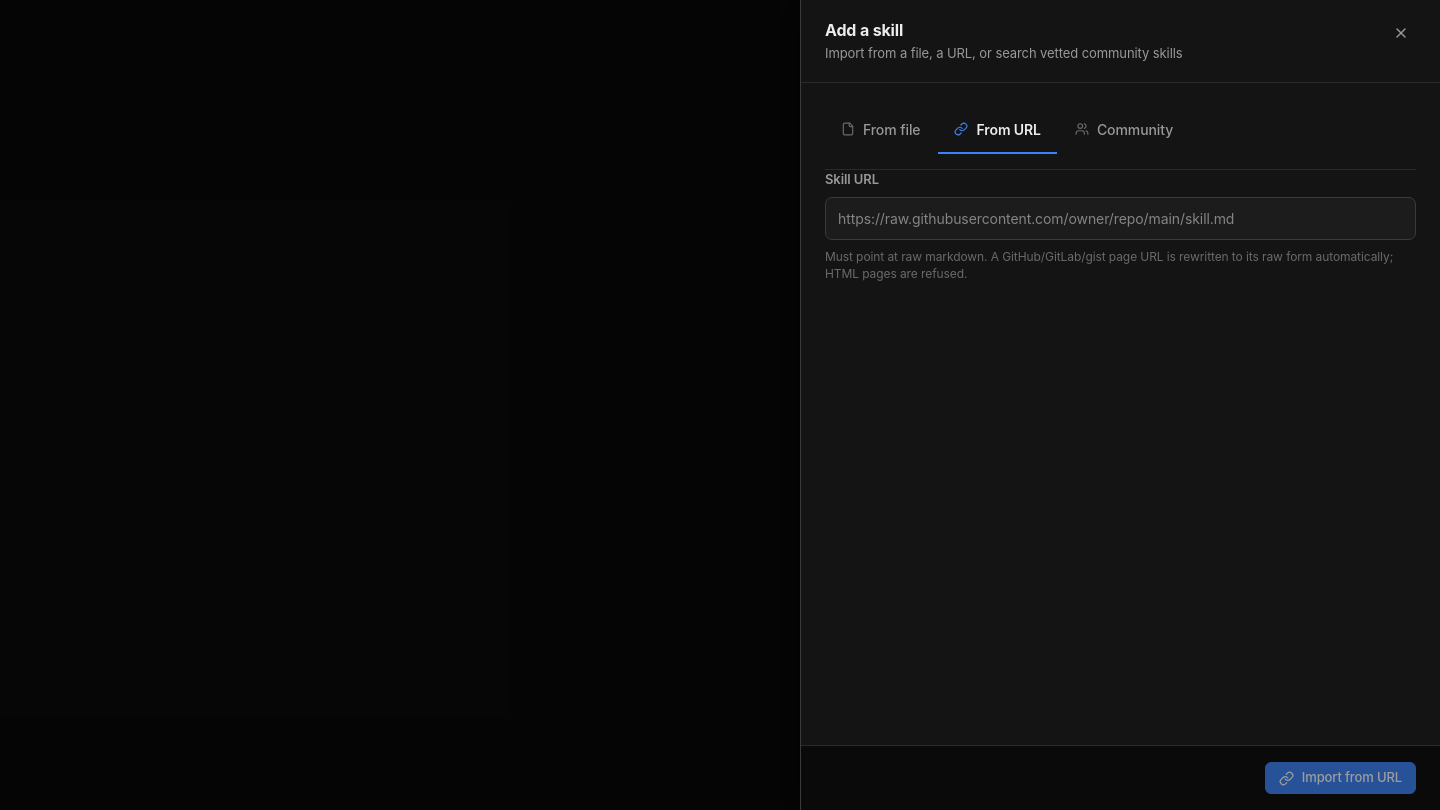
AddSkillDrawer (smoke) › omits the risk panel for a clean body
Type "https://example.com/skills/security.md" into the field with placeholder "https://raw.githubusercontent.com/owner/repo/main/skill.md" at (1120, 218), box [838,208,1403,229]
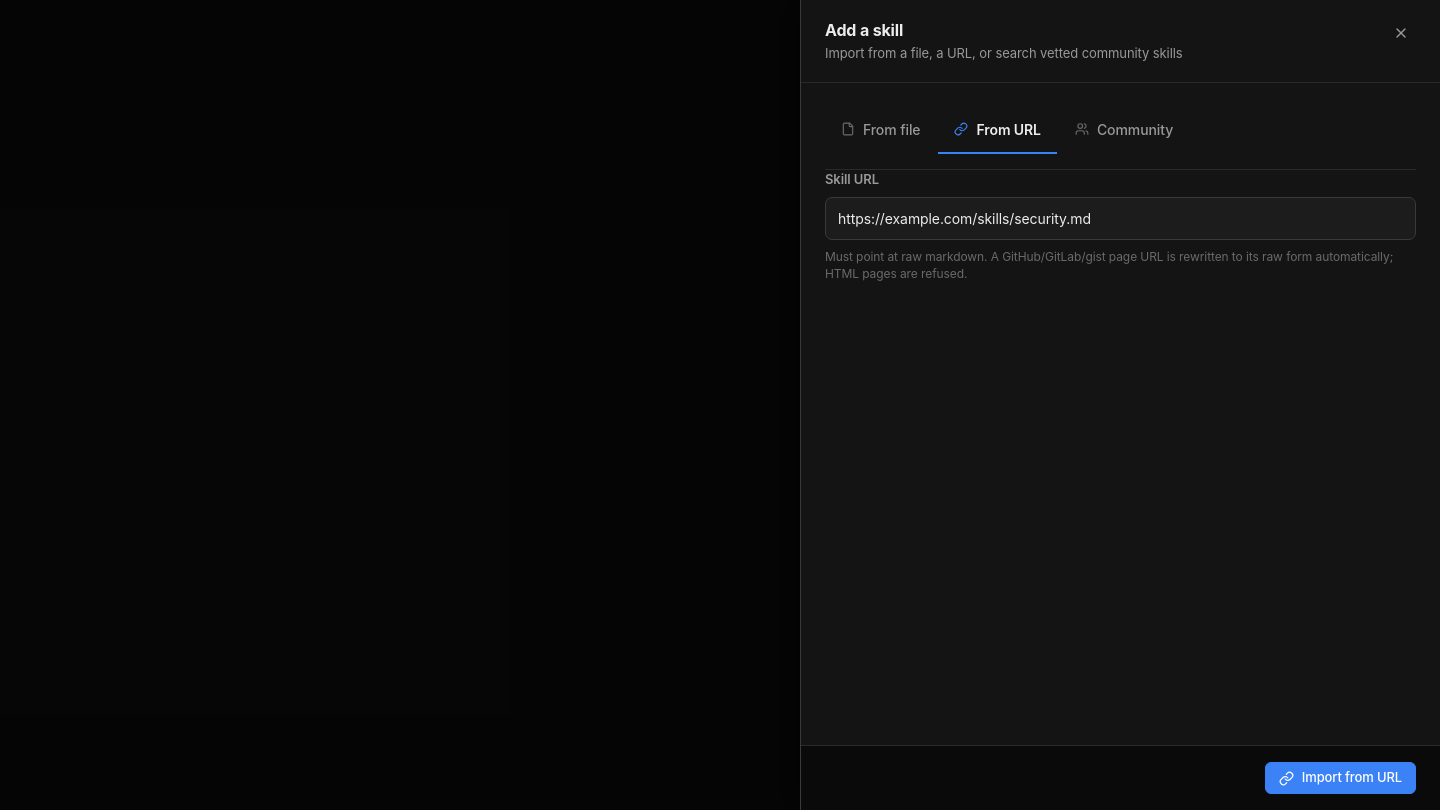
Click the button "Import from URL" at (1340, 778), box [1265,762,1416,794]
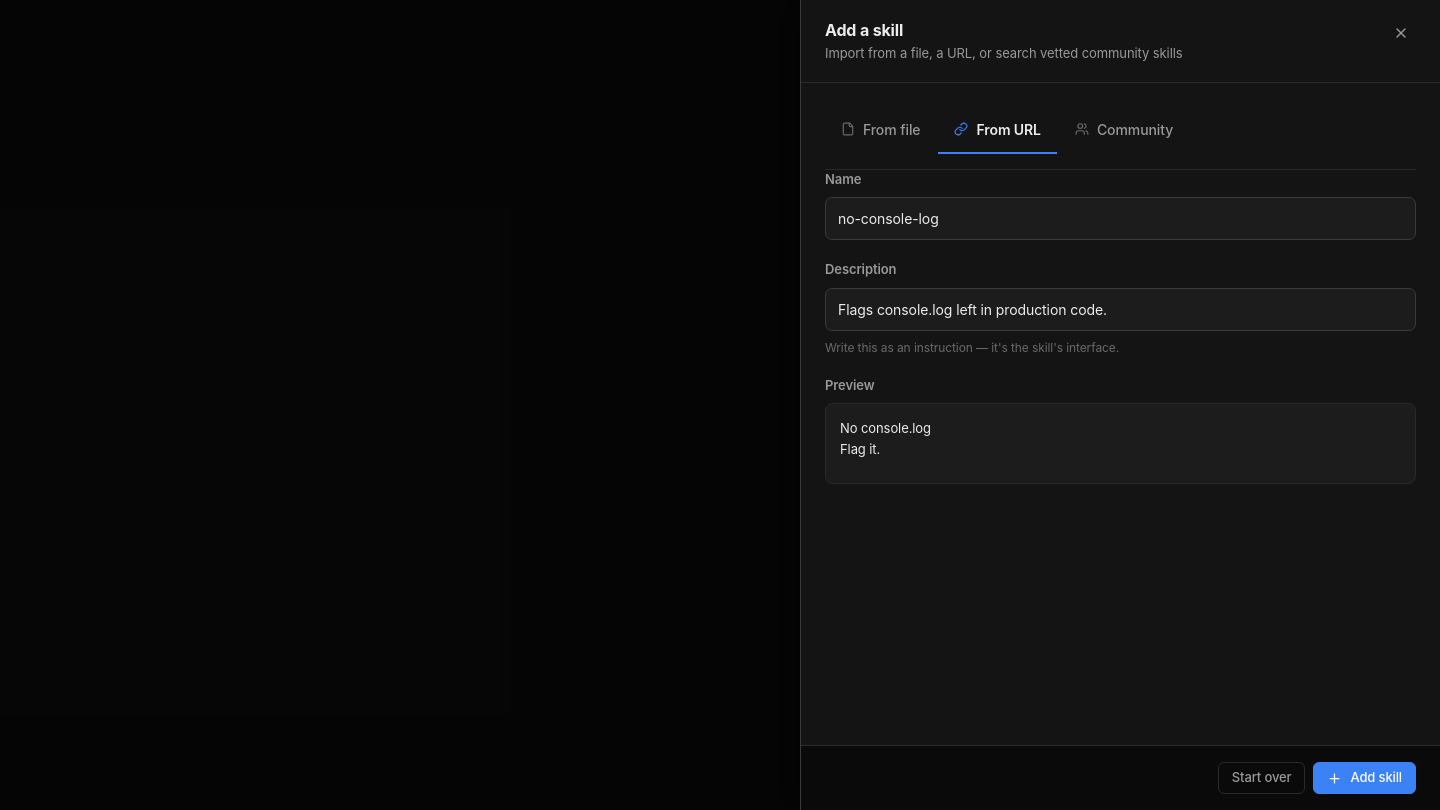
Result: the text "Preview" is shown at [825,376,874,395]
